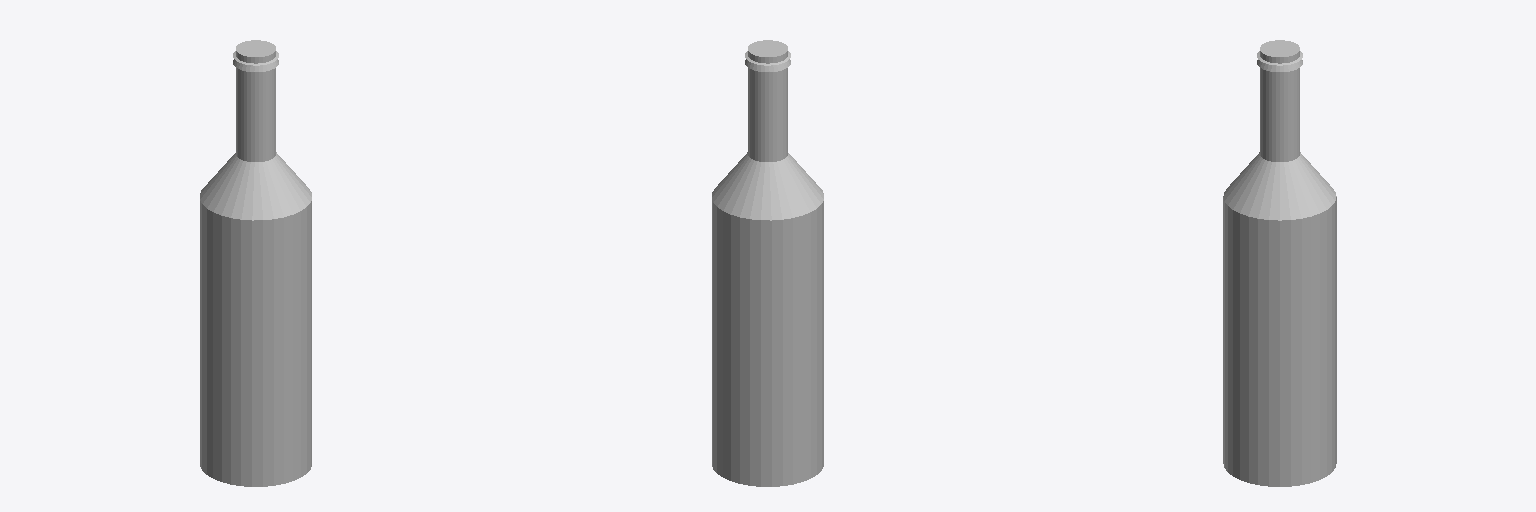
Rendered from bottle.obj.
3 renders of one model, left to right at view 1: azimuth 30°, elevation 25°; view 2: azimuth 150°, elevation 25°; view 3: azimuth 270°, elevation 25°, orthographic.
Visible parts, largest first — view 1: Cylinder; view 2: Cylinder; view 3: Cylinder.
Boxes of the visible parts, <box> form: Cylinder: <box>200,40,311,486</box>; Cylinder: <box>712,40,823,486</box>; Cylinder: <box>1223,40,1336,486</box>.
Bounding box in the file's own units: 2 × 8.08 × 2.